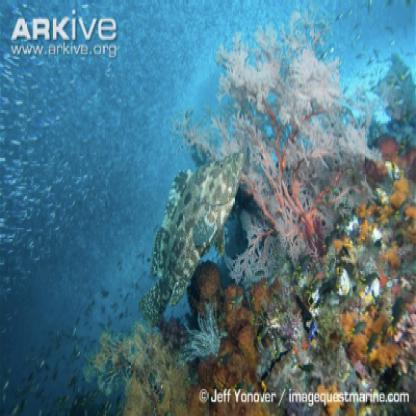grouper: (140, 148, 246, 326)
